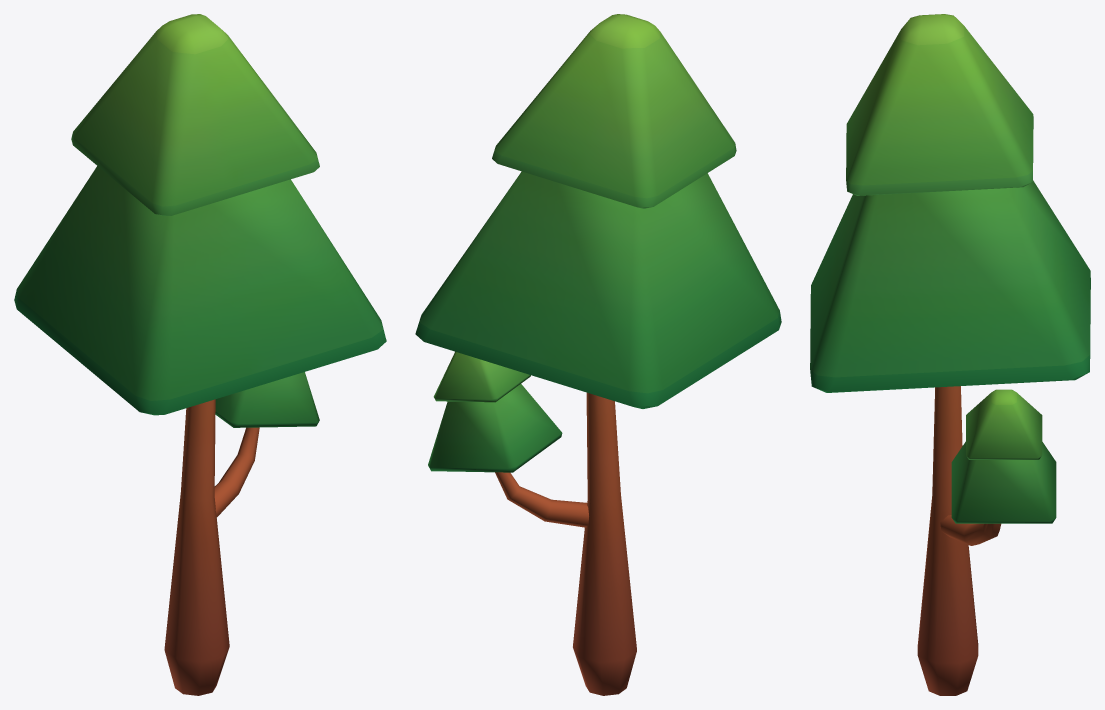
File: Tree_4_A_Color1.glb
3 views of the same model, side by side, from view 1: azimuth 30°, elevation 25°; view 2: azimuth 150°, elevation 25°; view 3: azimuth 270°, elevation 25° (orthographic).
Visible parts, largest first — view 1: Tree_4_A_Color1; view 2: Tree_4_A_Color1; view 3: Tree_4_A_Color1.
Part boxes in pixels (x1=…): Tree_4_A_Color1: x1=14, y1=14, x2=386, y2=695; Tree_4_A_Color1: x1=415, y1=14, x2=781, y2=695; Tree_4_A_Color1: x1=810, y1=14, x2=1090, y2=695.
Size of the model in its own units: 2.01 by 5.27 by 2.
Materials: 1 (1 with a texture image).
